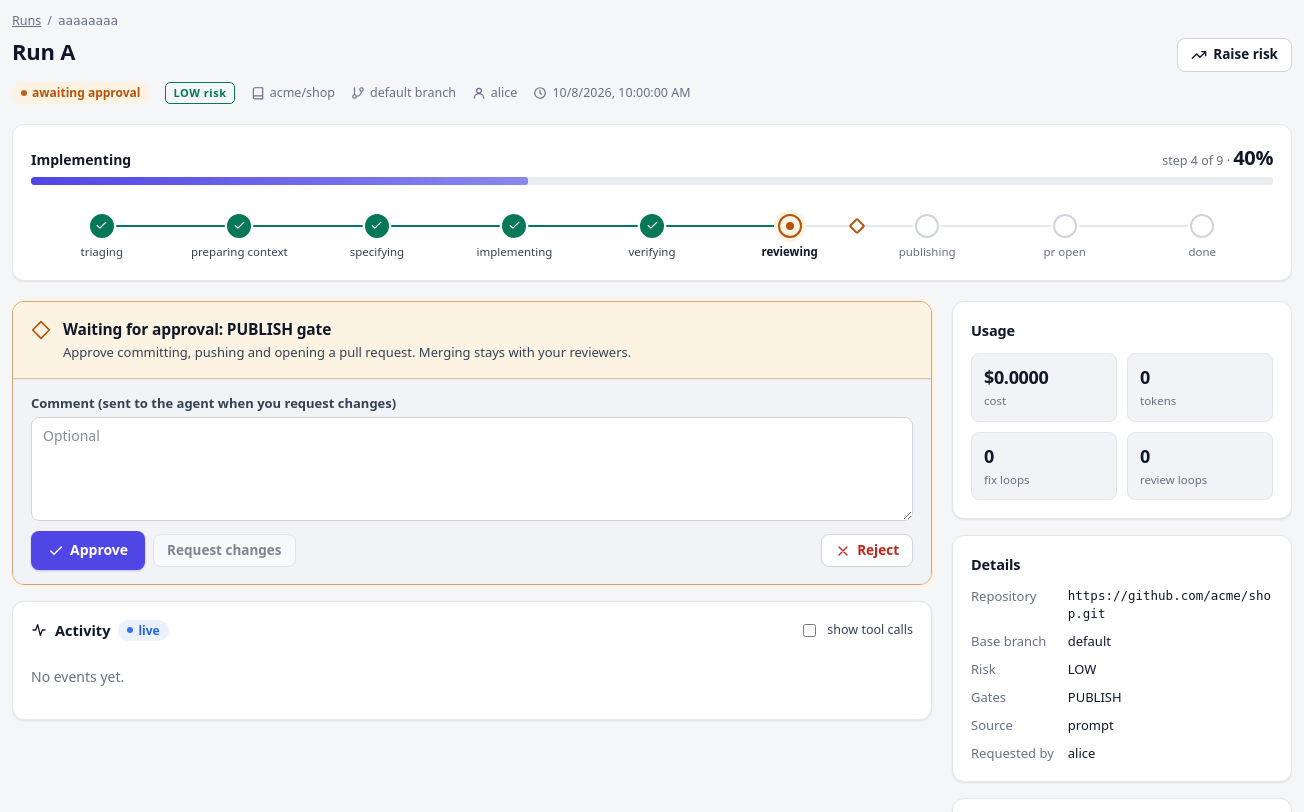
Test: RunPage approval › keeps the approver's comment when the decision request fails
The image size is (1304, 812).
In the text box with placeholder "Optional": (472, 469) [31,417,913,521], type "split the migration"
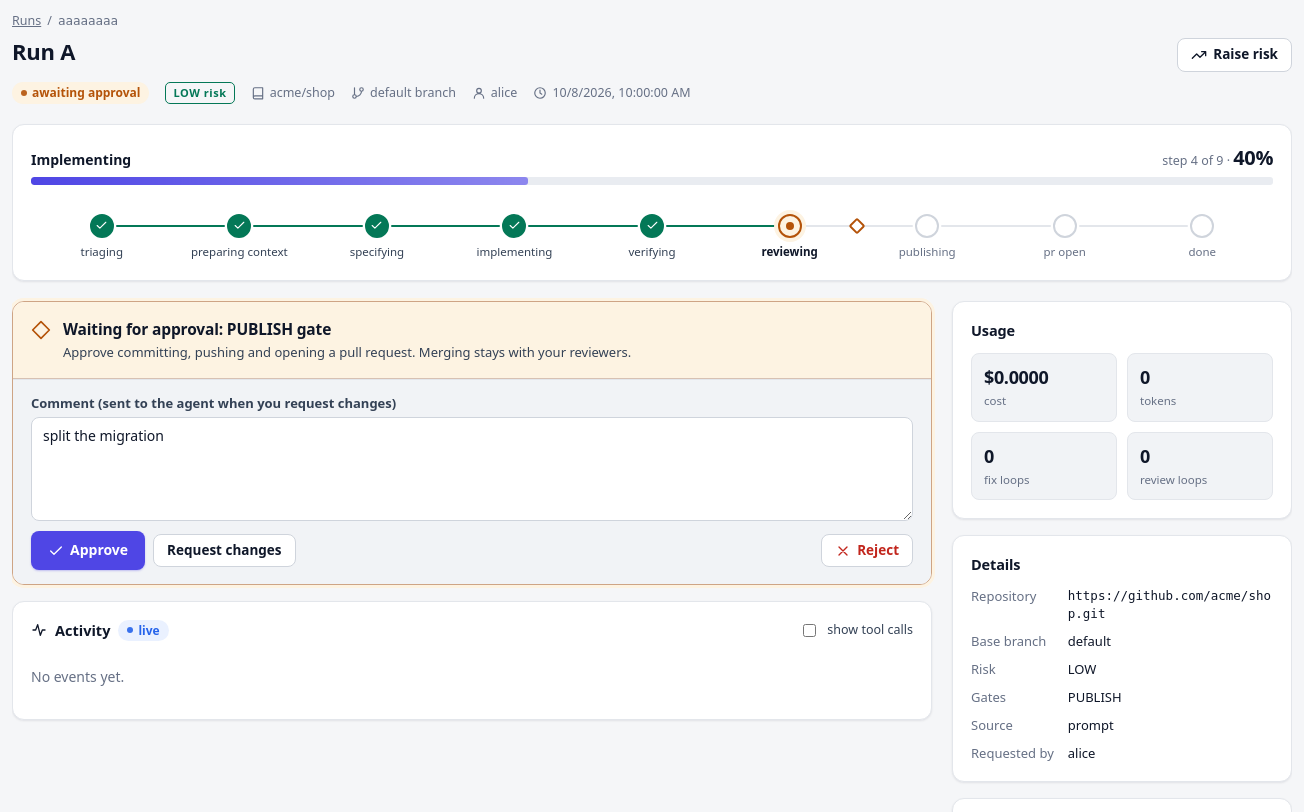
Click the button "Request changes": (224, 551) [153,534,296,567]
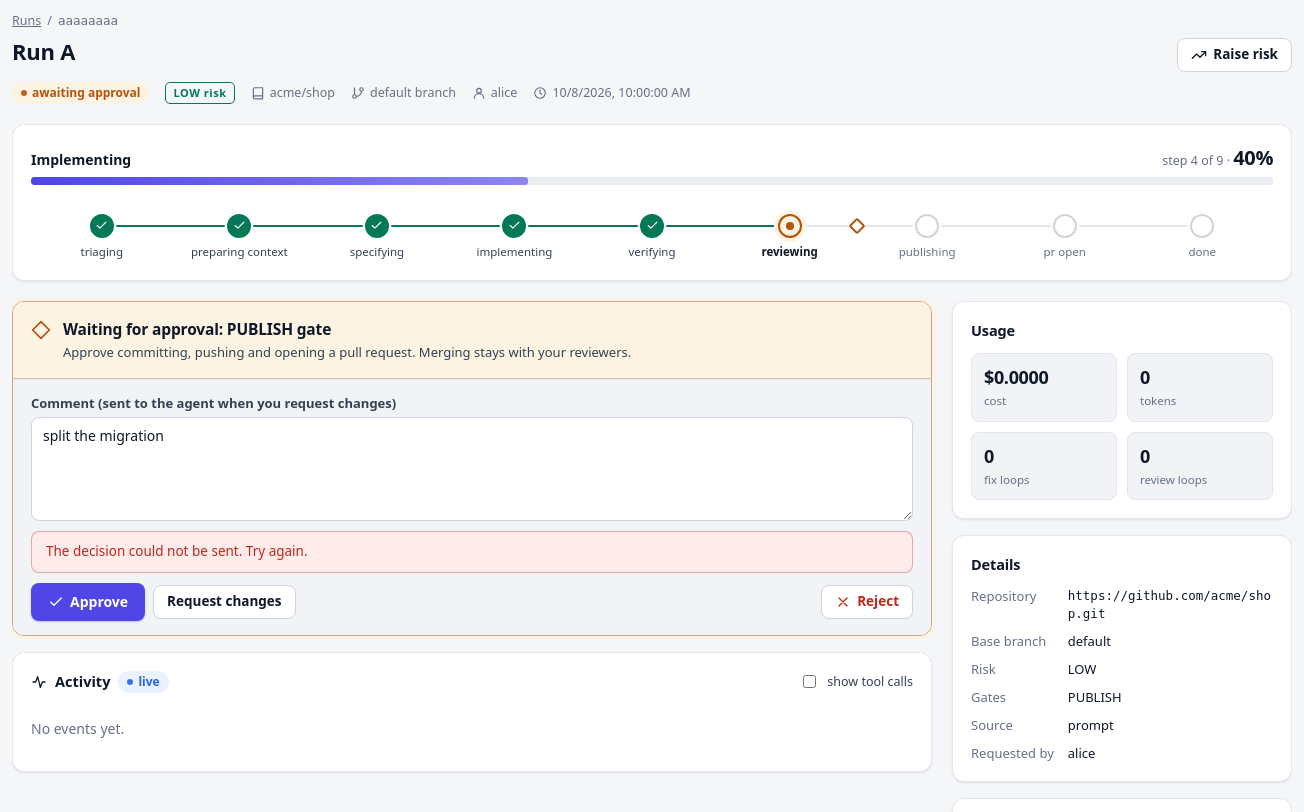
Expected: the message shows "could not be sent", [46,542,308,560]
